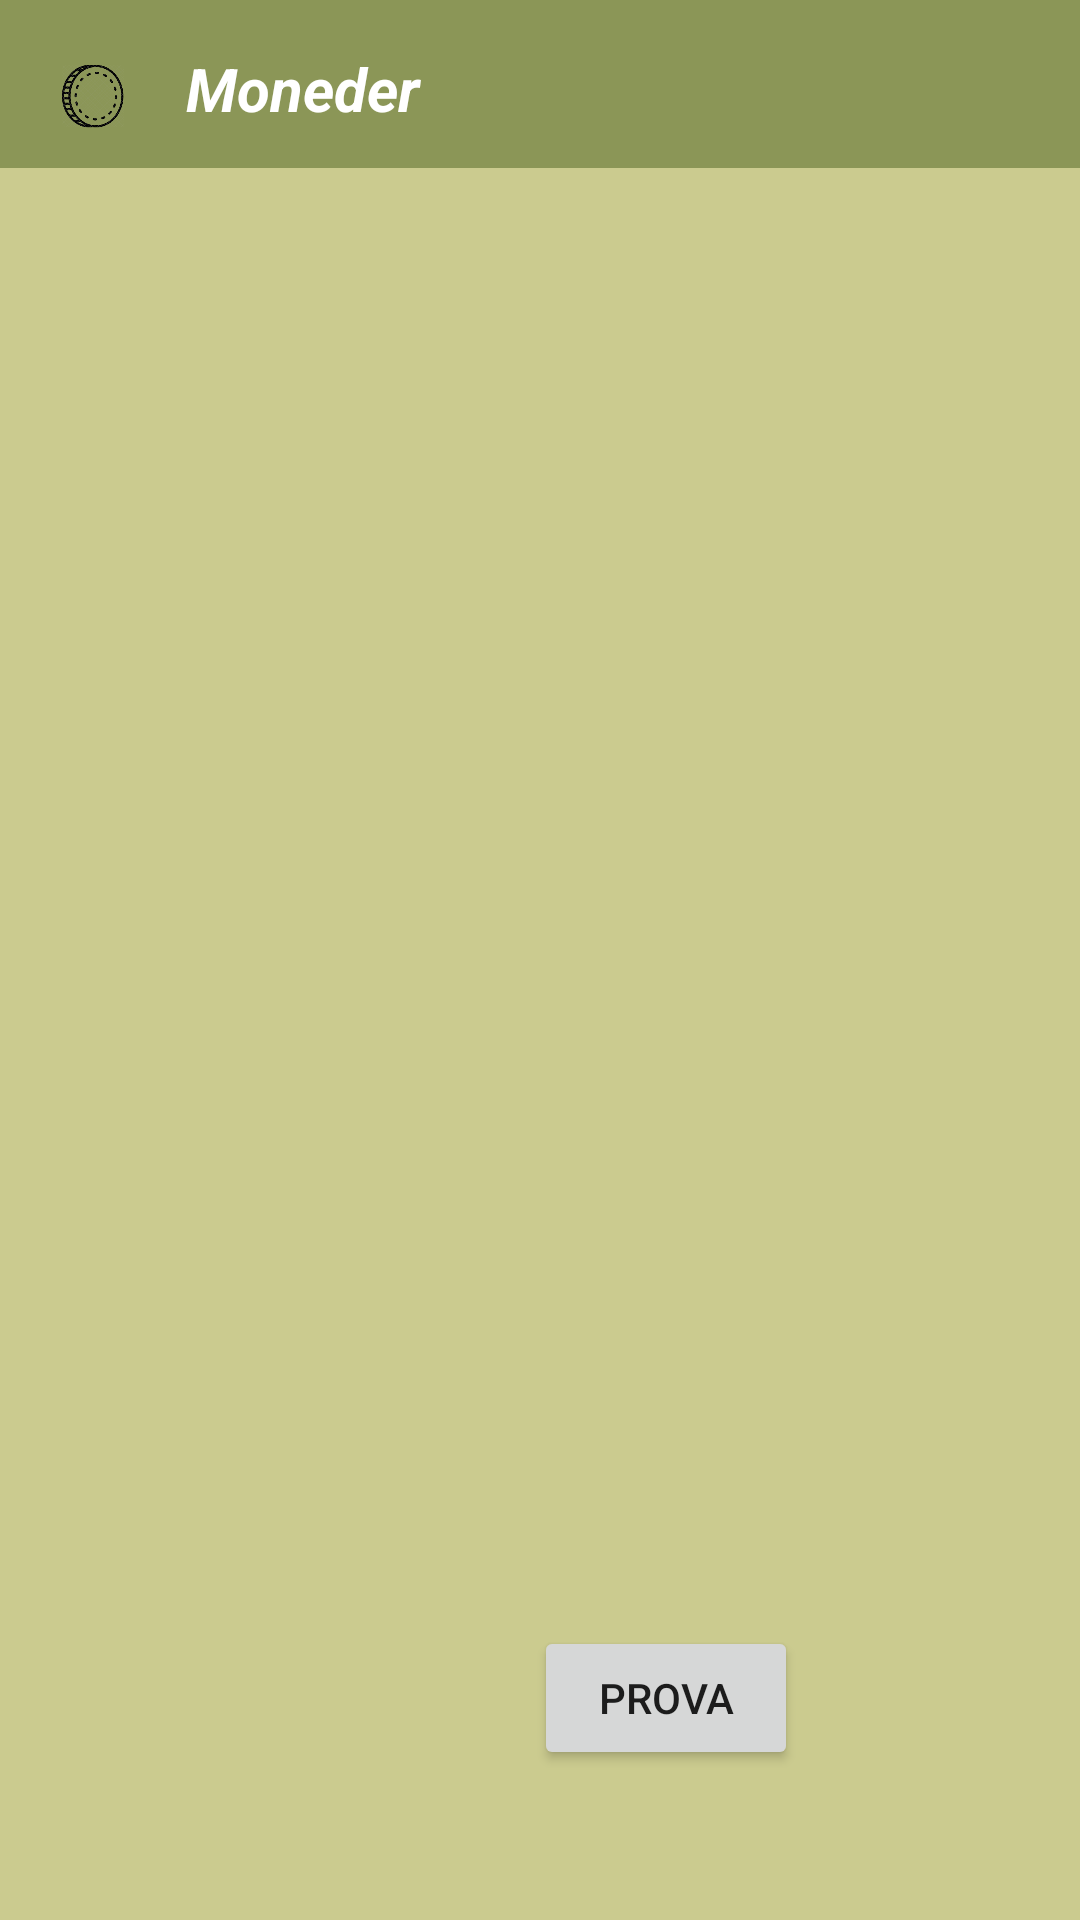

Locate icon controls on the screen. Image size 1080 × 1920, boxes as (x1, y1, x2, y2).
moneda: (62, 65, 124, 128)
